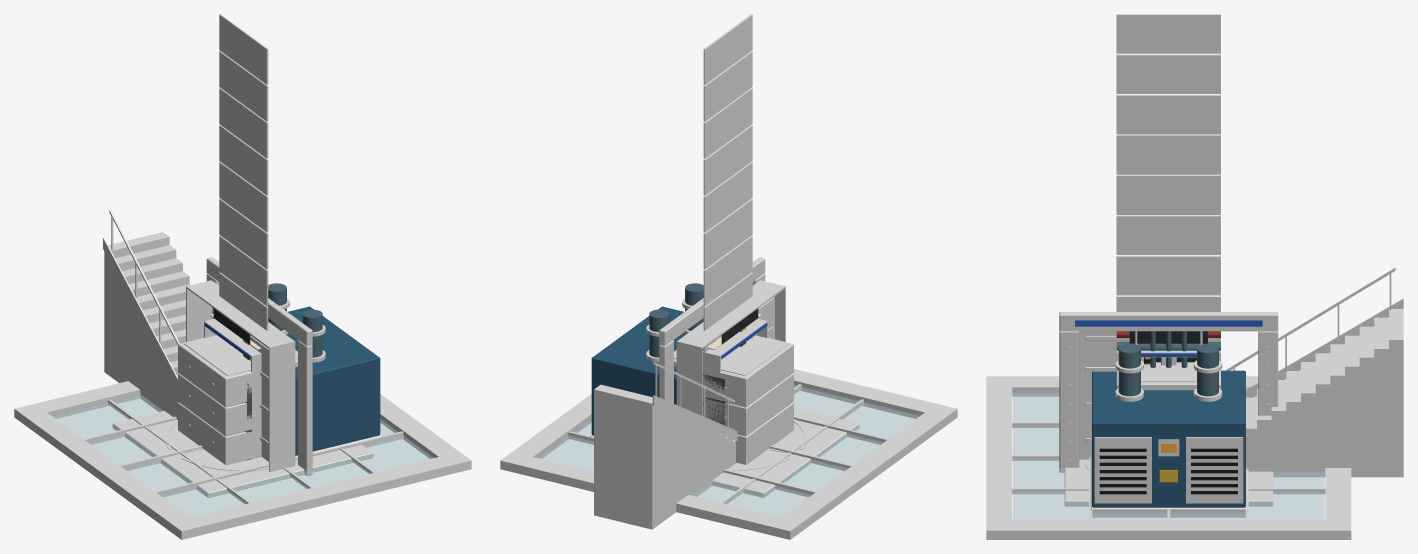
File: Bunker.fbx
3 renders of one model, left to right at view 1: azimuth 30°, elevation 25°; view 2: azimuth 150°, elevation 25°; view 3: azimuth 270°, elevation 25°, orthographic. The views are drawn at different scales.
Parts seen in each view (by area): view 1: ShaftTop_Curb, ShaftPanel8_Field, ShaftTop_Glass, GalleryStair_Treads, PumpUnit_Cabinet, SunPlinth_Courses, BlastDoor_Lining, SunDais_Slab, ShaftTop_Bars, BlastDoor_Frame, GalleryStair_Plates, SunPlinth_Cap (+6 smaller); view 2: ShaftTop_Curb, GalleryStair_Treads, ShaftPanel8_Field, ShaftTop_Glass, SunPlinth_Courses, SunDais_Slab, BlastDoor_Lining, PumpUnit_Cabinet, ShaftTop_Bars, BlastDoor_Frame, SunPlinth_Cap, PumpUnit_Pipes (+5 smaller); view 3: ShaftPanel8_Field, GalleryStair_Treads, ShaftTop_Curb, PumpUnit_Cabinet, ShaftTop_Glass, BlastDoor_Frame, PumpUnit_Doors, GalleryStair_Plates, BlastDoor_Leaf, PumpUnit_Louvres, PumpUnit_Pipes, SunDais_Slab (+12 smaller).
Part boxes in pixels (x1,y1,x2,y2): ShaftTop_Curb: [14, 381, 471, 539]; ShaftPanel8_Field: [219, 14, 268, 330]; ShaftTop_Glass: [52, 394, 433, 517]; GalleryStair_Treads: [104, 238, 189, 419]; PumpUnit_Cabinet: [286, 306, 380, 455]; SunPlinth_Courses: [178, 335, 297, 464]; BlastDoor_Lining: [186, 280, 295, 471]; SunDais_Slab: [112, 411, 373, 497]; ShaftTop_Bars: [83, 399, 403, 503]; BlastDoor_Frame: [206, 257, 312, 476]; GalleryStair_Plates: [108, 232, 190, 376]; SunPlinth_Cap: [184, 335, 297, 375]; ShaftTop_Curb: [500, 369, 957, 539]; GalleryStair_Treads: [594, 390, 735, 529]; ShaftPanel8_Field: [703, 14, 752, 326]; ShaftTop_Glass: [538, 385, 919, 517]; SunPlinth_Courses: [674, 335, 793, 464]; SunDais_Slab: [712, 407, 859, 497]; BlastDoor_Lining: [676, 280, 785, 415]; PumpUnit_Cabinet: [591, 306, 685, 435]; ShaftTop_Bars: [568, 384, 888, 503]; BlastDoor_Frame: [659, 257, 765, 403]; SunPlinth_Cap: [674, 336, 787, 375]; PumpUnit_Pipes: [649, 283, 703, 357]; ShaftPanel8_Field: [1116, 14, 1220, 341]; GalleryStair_Treads: [1246, 341, 1403, 477]; ShaftTop_Curb: [986, 376, 1351, 539]; PumpUnit_Cabinet: [1092, 370, 1245, 507]; ShaftTop_Glass: [1013, 391, 1324, 519]; BlastDoor_Frame: [1059, 312, 1278, 472]; PumpUnit_Doors: [1094, 437, 1243, 503]; GalleryStair_Plates: [1246, 309, 1403, 429]; BlastDoor_Leaf: [1079, 331, 1143, 459]; PumpUnit_Louvres: [1099, 448, 1237, 494]; PumpUnit_Pipes: [1118, 344, 1218, 396]; SunDais_Slab: [1064, 459, 1273, 506].
Bounding box in the file's own units: 28 × 39.5 × 32.
